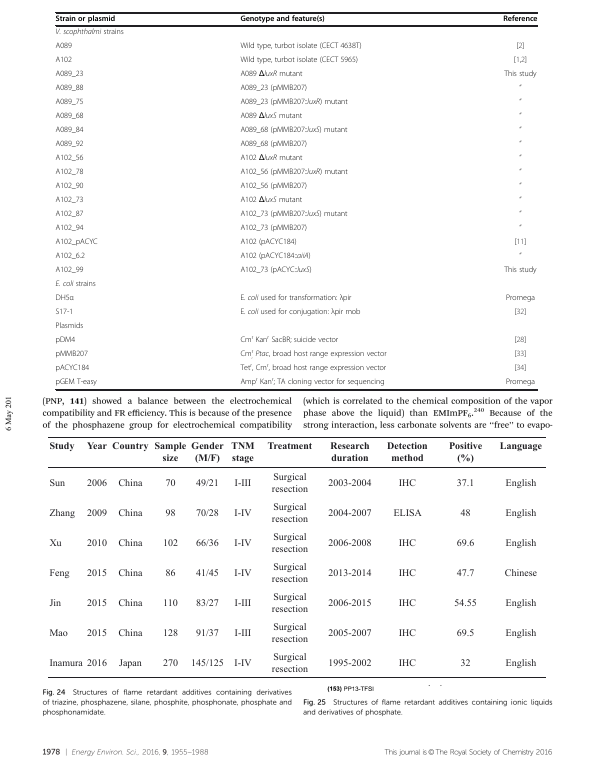borderless: (54, 11, 537, 389), (47, 436, 546, 677)
cell: (239, 348, 387, 360), (239, 362, 387, 374), (239, 376, 385, 388), (239, 42, 362, 52), (239, 308, 361, 318), (239, 56, 359, 66), (239, 334, 339, 346), (239, 294, 352, 304), (239, 98, 349, 108), (239, 168, 349, 178), (239, 126, 348, 136), (239, 210, 348, 220), (386, 442, 428, 465), (329, 442, 370, 465), (270, 502, 309, 526), (270, 473, 309, 496), (270, 532, 309, 555), (270, 562, 309, 585), (270, 592, 309, 615), (270, 622, 309, 645), (270, 652, 309, 675), (448, 442, 483, 465), (239, 15, 326, 24), (153, 442, 187, 465), (190, 442, 224, 465), (239, 266, 312, 276), (239, 252, 311, 262), (55, 28, 125, 38), (239, 84, 308, 94), (239, 140, 308, 150), (239, 182, 308, 192), (239, 224, 308, 234), (239, 70, 303, 80), (239, 112, 303, 122), (239, 154, 303, 164), (239, 196, 303, 206), (239, 238, 297, 248), (230, 442, 255, 465), (55, 15, 116, 24), (327, 508, 372, 520), (266, 442, 313, 453), (498, 442, 543, 453), (327, 479, 372, 490), (327, 538, 372, 549), (327, 568, 372, 579), (327, 598, 372, 609), (327, 628, 372, 639), (327, 658, 372, 669), (55, 238, 99, 248), (55, 378, 98, 388), (55, 280, 97, 290), (111, 442, 149, 453), (504, 508, 537, 520), (503, 568, 538, 579), (48, 658, 83, 669), (190, 658, 224, 669), (504, 479, 537, 490), (504, 538, 537, 549), (504, 598, 537, 609), (504, 628, 537, 639), (504, 658, 537, 669), (392, 508, 422, 520), (55, 364, 90, 374), (503, 70, 537, 80), (503, 266, 537, 276), (55, 350, 89, 360), (48, 508, 76, 520), (502, 15, 538, 24), (117, 508, 143, 520), (55, 252, 86, 262), (505, 294, 536, 304), (505, 378, 536, 388), (48, 442, 75, 453), (55, 70, 84, 80), (55, 84, 84, 94), (55, 98, 84, 108), (55, 112, 84, 122), (55, 126, 84, 136), (55, 140, 84, 150), (55, 154, 84, 164), (55, 168, 84, 178), (55, 182, 84, 192), (55, 196, 84, 206), (55, 210, 84, 220), (55, 224, 84, 234), (55, 266, 84, 276), (55, 322, 84, 332), (195, 508, 219, 520), (117, 479, 143, 490), (117, 538, 143, 549), (117, 568, 143, 579), (117, 598, 143, 609), (117, 628, 143, 639), (195, 479, 219, 490), (86, 508, 108, 520), (195, 538, 219, 549), (195, 568, 219, 579), (195, 598, 219, 609), (453, 598, 477, 609), (195, 628, 219, 639), (118, 658, 142, 669), (86, 442, 108, 453), (85, 479, 107, 490), (85, 538, 107, 549), (48, 568, 70, 579), (86, 568, 108, 579), (86, 598, 108, 609), (86, 628, 108, 639), (86, 658, 108, 669), (233, 508, 252, 520), (397, 479, 417, 490), (455, 479, 475, 490), (397, 538, 417, 549), (455, 538, 475, 549), (397, 568, 417, 579), (455, 568, 475, 579), (397, 598, 417, 609), (48, 628, 68, 639), (397, 628, 417, 639), (455, 628, 475, 639), (397, 658, 417, 669), (55, 336, 76, 346), (233, 479, 252, 490), (233, 538, 252, 549), (233, 568, 252, 579), (233, 598, 252, 609), (233, 628, 252, 639), (233, 658, 252, 669), (55, 294, 75, 304), (48, 479, 66, 490), (55, 308, 74, 318), (162, 538, 179, 549), (162, 628, 179, 639), (162, 658, 179, 669), (55, 42, 73, 52), (55, 56, 73, 66), (162, 598, 178, 609), (48, 538, 62, 549), (48, 598, 62, 609), (513, 56, 528, 66), (164, 508, 176, 520), (459, 508, 471, 520), (513, 238, 527, 248), (513, 308, 527, 318), (513, 336, 527, 346), (513, 350, 527, 360), (513, 364, 527, 374), (164, 479, 176, 490), (164, 568, 176, 579), (459, 658, 471, 669), (515, 42, 525, 52), (518, 84, 522, 92), (518, 98, 522, 106), (518, 112, 522, 120), (518, 126, 522, 134), (518, 140, 522, 148), (518, 154, 522, 162), (518, 168, 522, 176), (518, 182, 522, 190), (518, 196, 522, 204), (518, 210, 522, 218), (518, 224, 522, 232), (518, 252, 522, 260)
